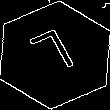L_SE: (27, 26, 83, 84)
